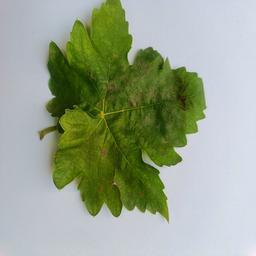Powdery-Mildew: (106, 70, 173, 105), (71, 33, 98, 58), (96, 5, 118, 34), (90, 132, 110, 157)
